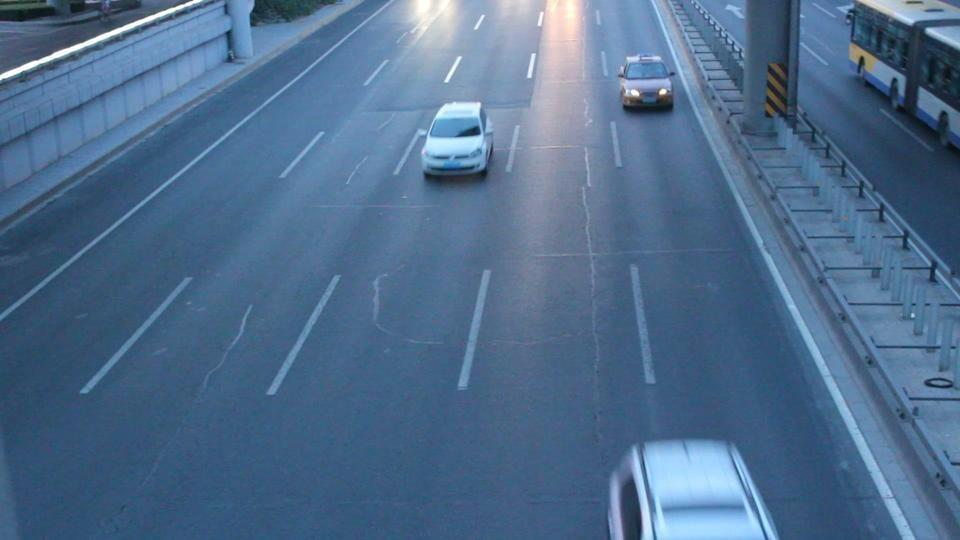car: (606, 438, 781, 538), (421, 101, 495, 180), (617, 53, 675, 111)
